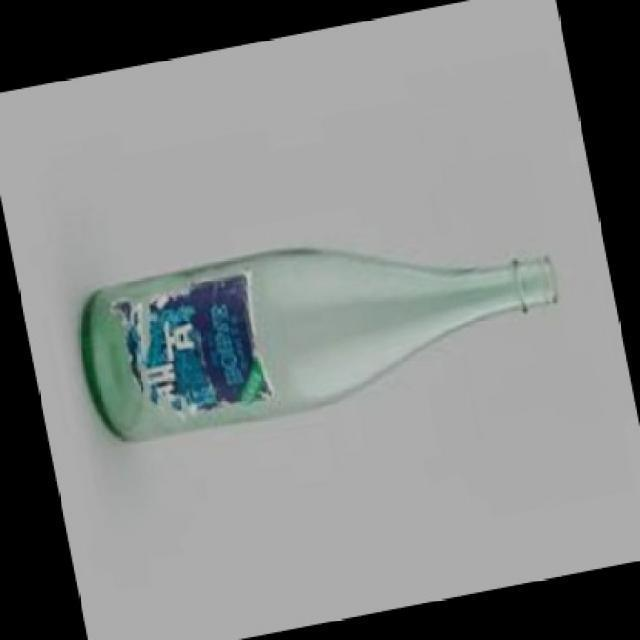Glass: (80, 248, 558, 444)
